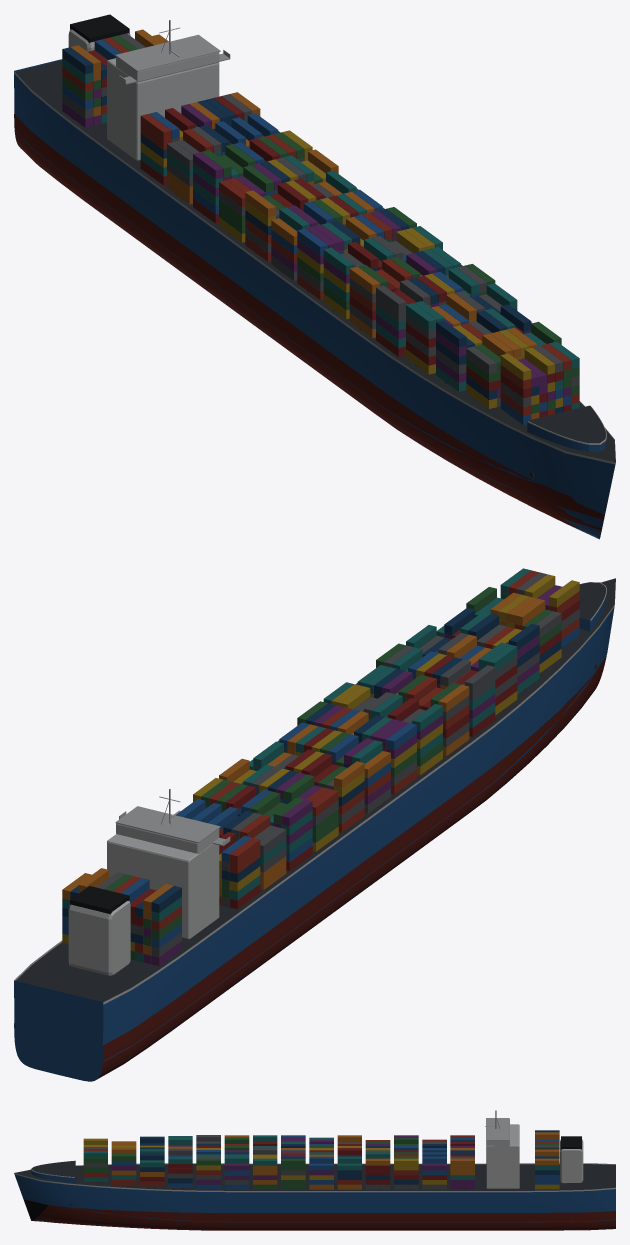
The model's file is container.glb.
3 renders of one model, top to bottom at view 1: azimuth 30°, elevation 25°; view 2: azimuth 150°, elevation 25°; view 3: azimuth 270°, elevation 25°, orthographic. The views are drawn at different scales.
Bounding box in the file's own units: 32.38 × 60.47 × 299.
